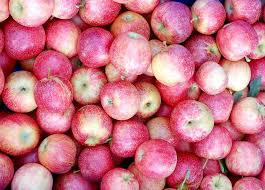apple: (148, 2, 194, 44), (108, 33, 151, 71), (172, 101, 212, 138), (216, 21, 256, 57), (35, 76, 74, 112), (152, 46, 191, 80), (134, 140, 173, 174), (70, 106, 110, 137), (40, 133, 74, 167), (102, 82, 138, 113)
